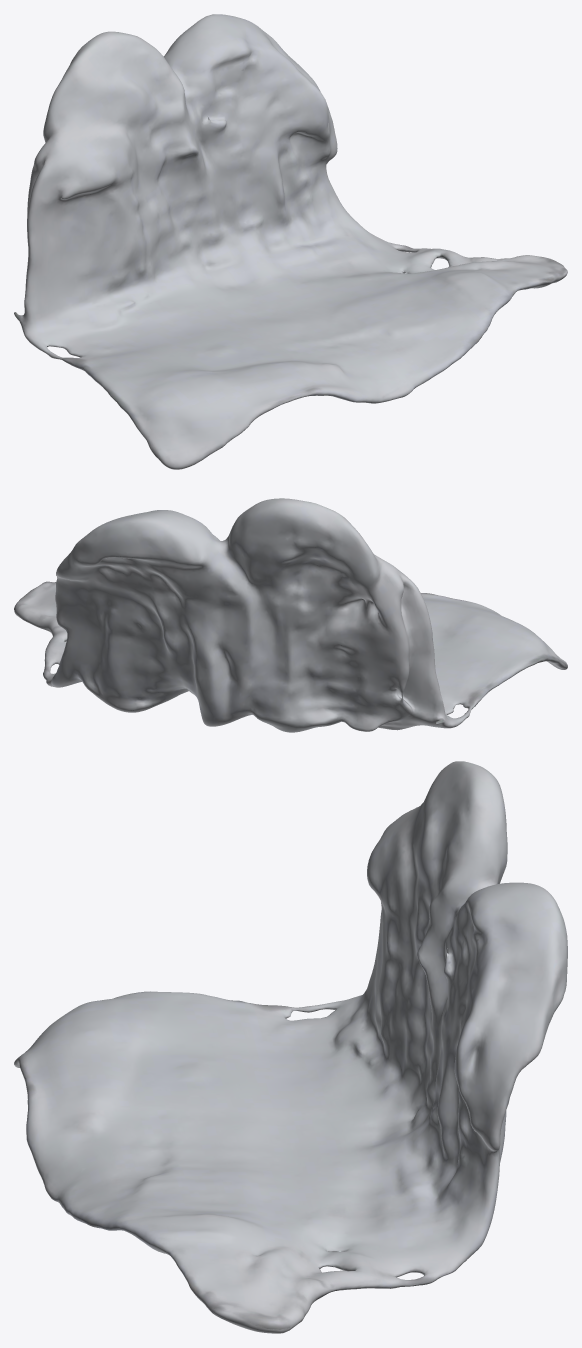
Rendered from 5ba93b4db644_white_sea_wave_with.fbx.
The picture shows the model from 3 angles, top to bottom: view 1: azimuth 30°, elevation 25°; view 2: azimuth 150°, elevation 25°; view 3: azimuth 270°, elevation 25°; orthographic projection. The views are drawn at different scales.
Parts seen in each view (by area): view 1: high_poly; view 2: high_poly; view 3: high_poly.
Boxes of the visible parts, <box> form: high_poly: <box>14,14,567,469</box>; high_poly: <box>14,498,567,732</box>; high_poly: <box>14,761,567,1333</box>.
Bounding box in the file's own units: 100 × 54.15 × 76.39.
